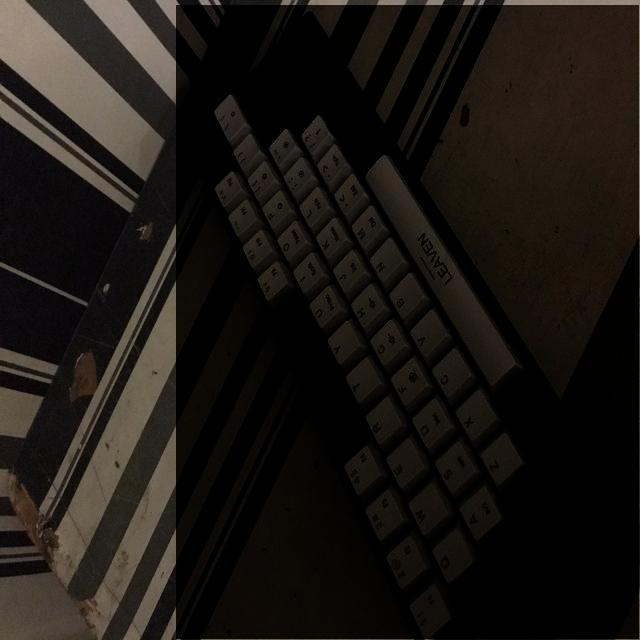-mouse-: (176, 6, 640, 640)
